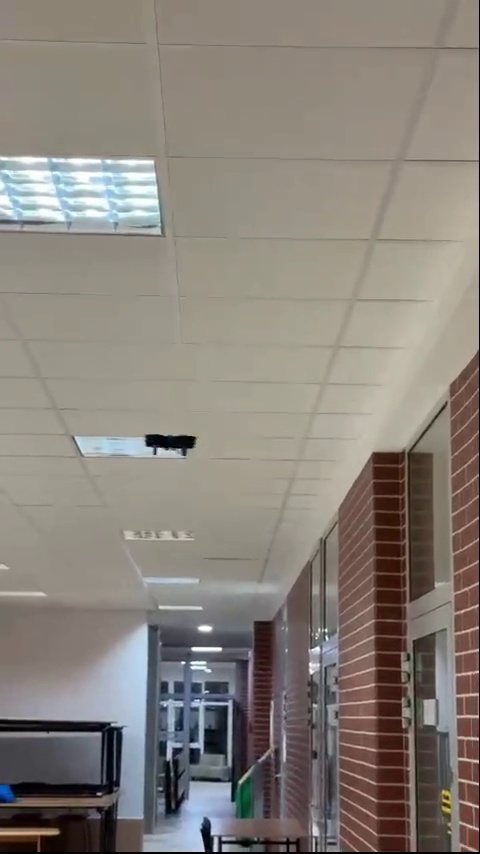drone: (145, 433, 194, 456)
